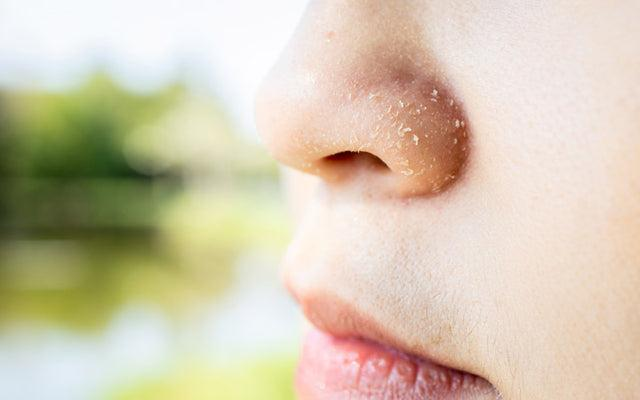Dry-Skin: (277, 72, 499, 186)
